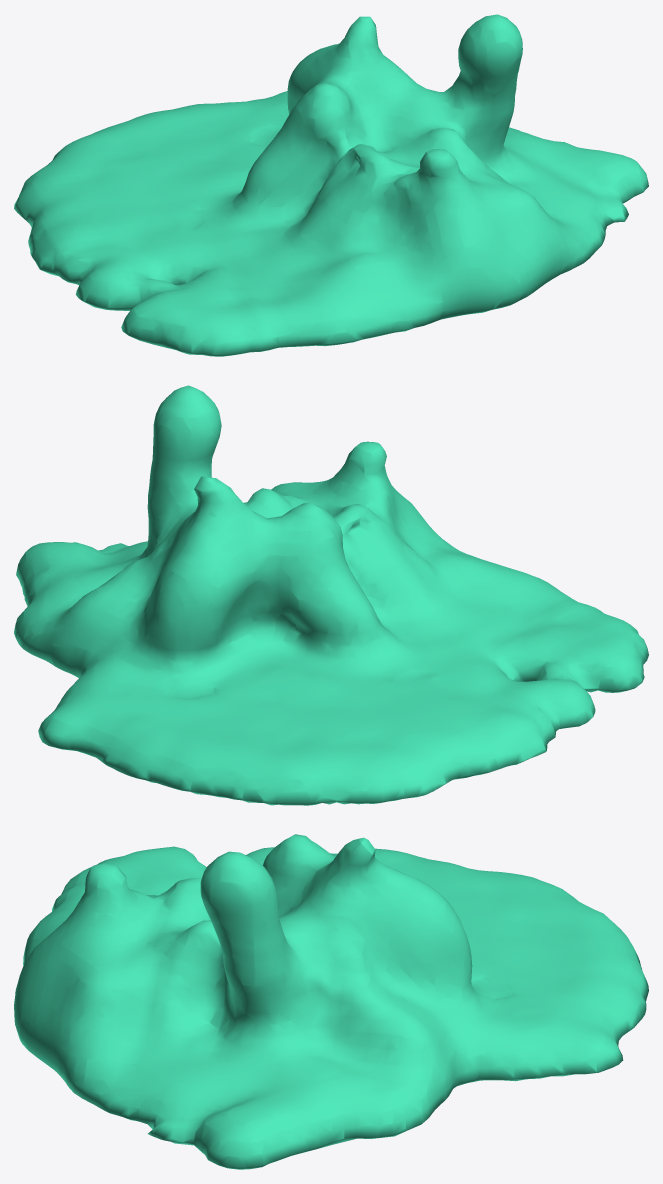
3 views of the same model, one above another, from view 1: azimuth 30°, elevation 25°; view 2: azimuth 150°, elevation 25°; view 3: azimuth 270°, elevation 25° (orthographic). The views are drawn at different scales.
Visible parts, largest first — view 1: Liquid_Domain; view 2: Liquid_Domain; view 3: Liquid_Domain.
Part boxes in pixels (x1,y1,x2,y2): Liquid_Domain: [14, 14, 648, 356]; Liquid_Domain: [14, 385, 648, 805]; Liquid_Domain: [14, 834, 648, 1169].
Bounding box in the file's own units: 9.05 × 3.28 × 7.93.
